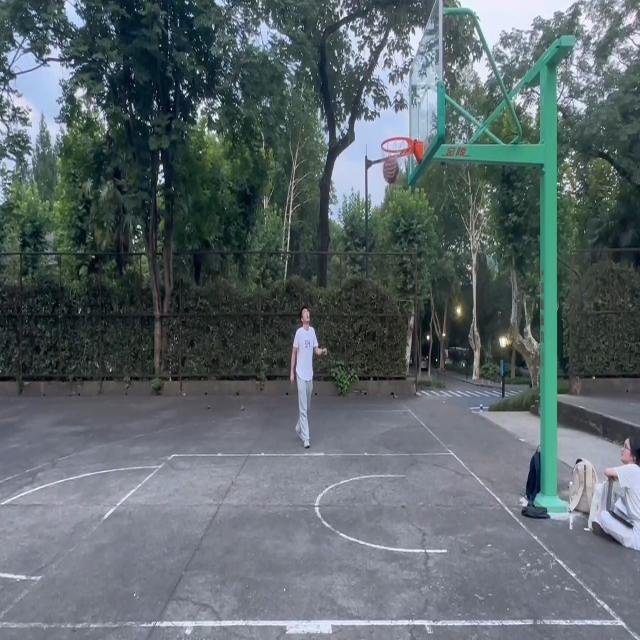basketball: (381, 138, 424, 192)
rim: (382, 156, 402, 184)
